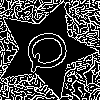Q: (20, 24, 80, 76)
